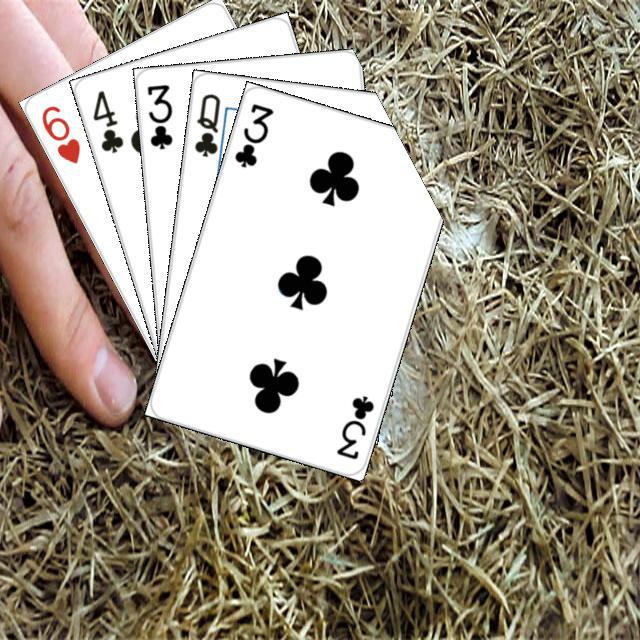3c: (229, 98, 276, 170), (331, 390, 376, 461), (142, 79, 175, 152)
4c: (87, 85, 125, 155)
6h: (36, 100, 82, 166)
Qc: (190, 88, 232, 167)
